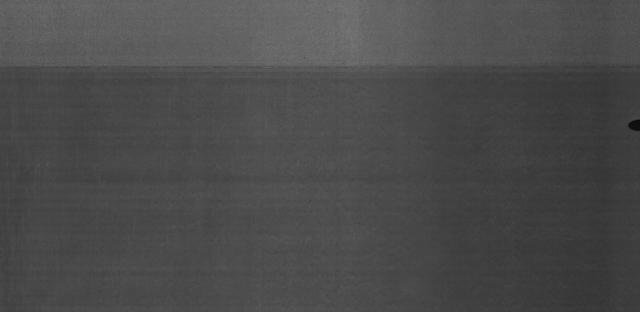punching_hole: (626, 115, 640, 132)
welding_line: (2, 57, 639, 77)
